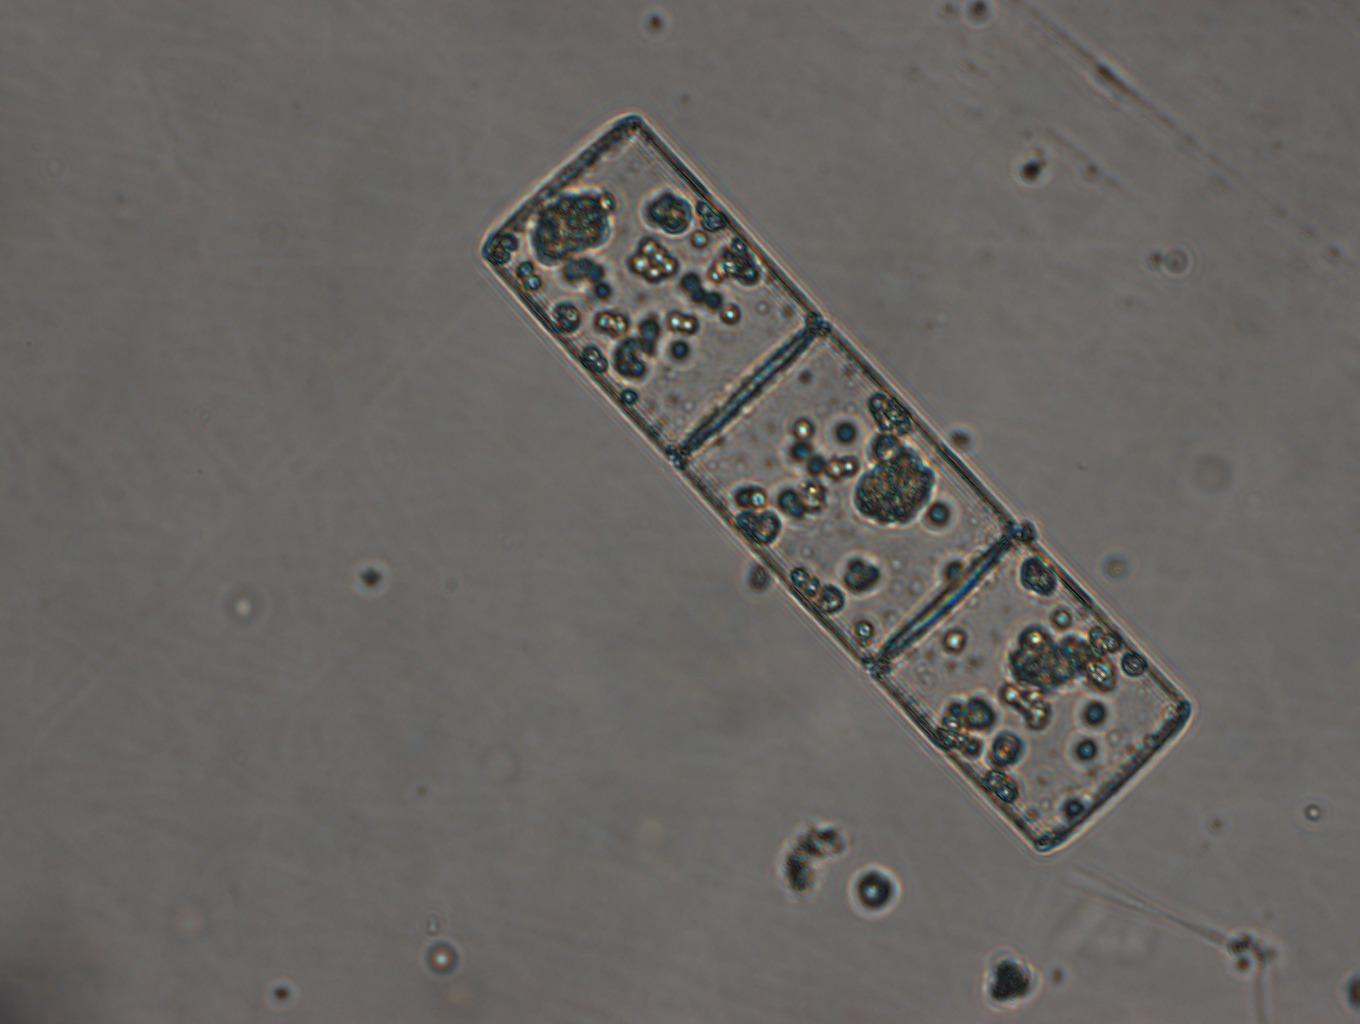guinardia flaccida: (472, 100, 1199, 858)
